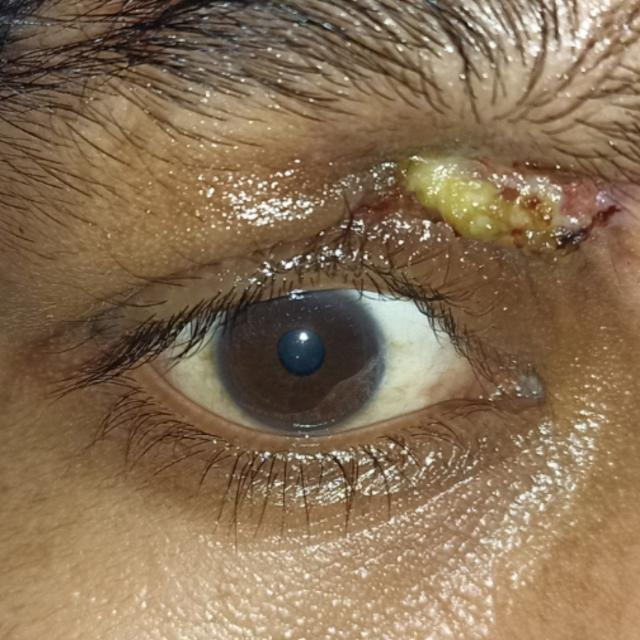Normal: (218, 280, 382, 433)
